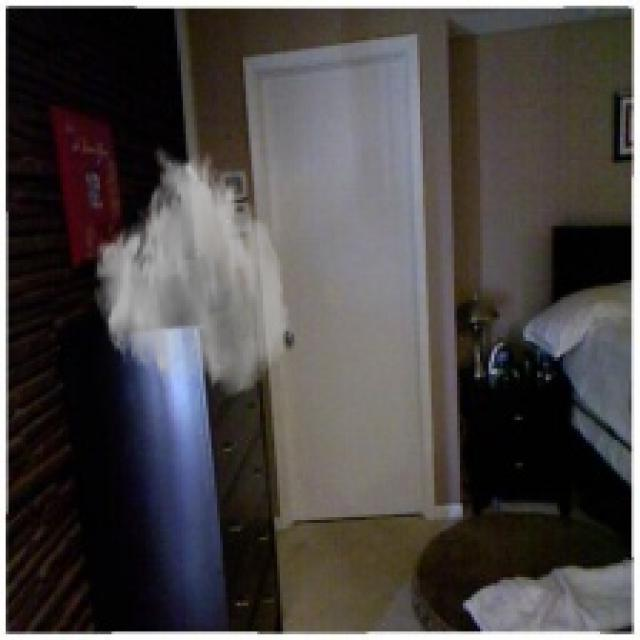Smoke: (91, 143, 292, 400)
